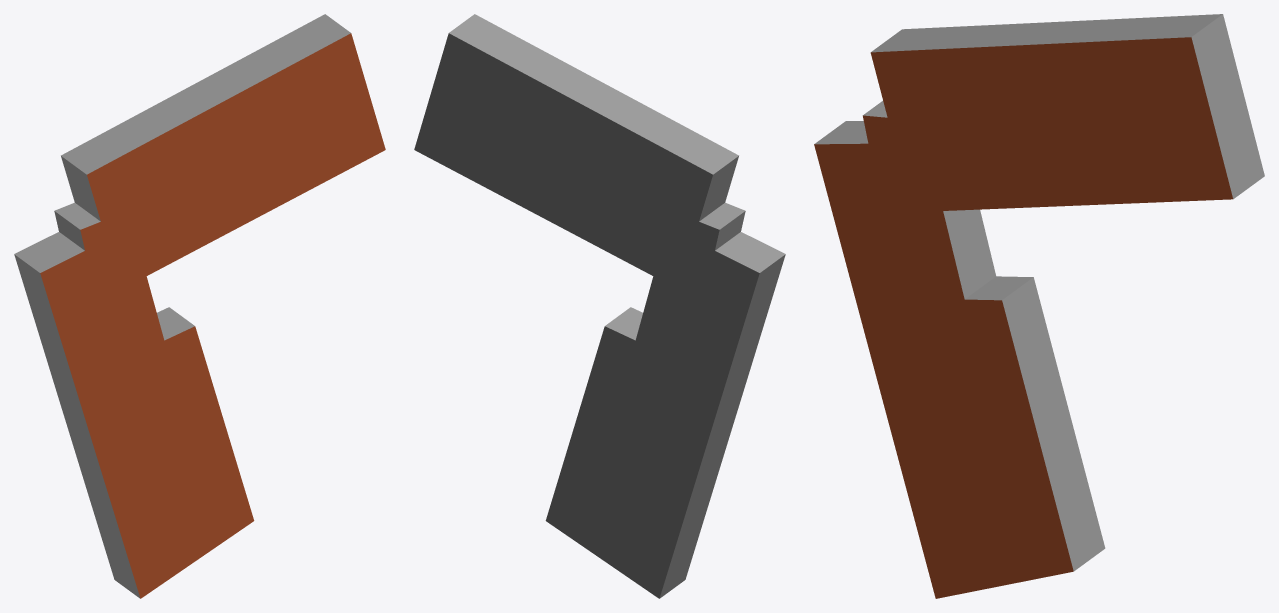
Rendered from construction_6474_assumed_A_Casa_h6m.obj.
3 views of the same model, side by side, from view 1: azimuth 30°, elevation 25°; view 2: azimuth 150°, elevation 25°; view 3: azimuth 330°, elevation 25° (orthographic). The views are drawn at different scales.
Visible parts, largest first — view 1: construction_6474_assumed_A_Casa; view 2: construction_6474_assumed_A_Casa; view 3: construction_6474_assumed_A_Casa.
Boxes of the visible parts, bbox=[...] form: construction_6474_assumed_A_Casa: bbox=[14, 14, 385, 598]; construction_6474_assumed_A_Casa: bbox=[414, 14, 785, 598]; construction_6474_assumed_A_Casa: bbox=[814, 14, 1264, 598].
Size of the model in its own units: 45.88 by 65.27 by 6.
